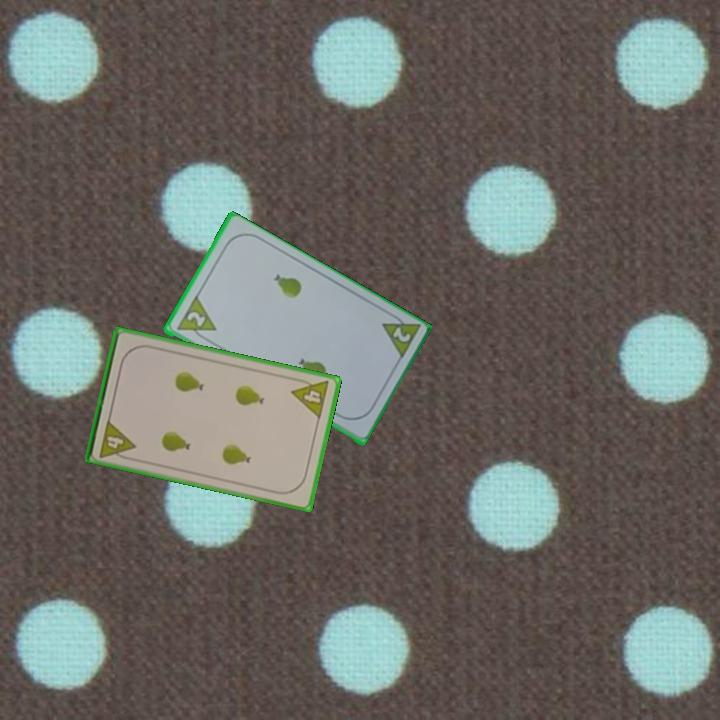2p: (377, 308, 423, 363), (183, 308, 208, 330)
4p: (288, 374, 332, 422), (96, 416, 138, 463)
